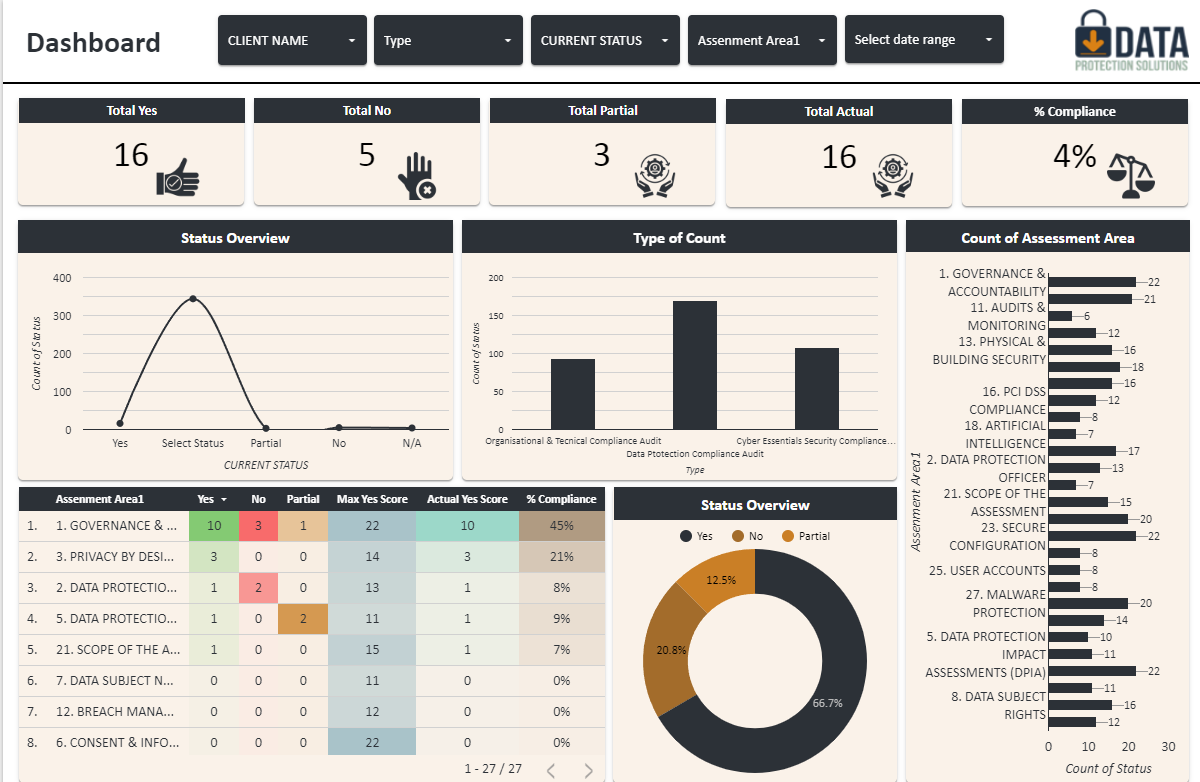

Layout of this report page (visuals, bound fields, positions):
{"tool":"powerbi","page":{"name":"Dashboard","canvas":[1280,720],"ordinal":0},"visuals":[{"type":"card","title":"% Compliant","fields":{"Values":["f_Measures.% COMPLIANT"]},"box":[1029.4,87,240,101.1],"z":0,"group":"g1"},{"type":"tableEx","title":"Assessment Detail","fields":{"Values":["Main_Data.Assessment Area","f_Measures.Total Yes","f_Measures.Total No","f_Measures.Total Partial","f_Measures.Count of Status","f_Measures.Total Actual Yes Score","f_Measures.% COMPLIANT"]},"box":[11.5,461.1,679.2,250],"z":0},{"type":"card","title":"Total Actual","fields":{"Values":["f_Measures.Total Actual Yes Score"]},"box":[774.9,87,240,101.1],"z":1000,"group":"g1"},{"type":"shape","box":[0,71.8,1276,15.1],"z":1000},{"type":"card","title":"Total Partial","fields":{"Values":["f_Measures.Total Partial"]},"box":[520.5,87,240,101.1],"z":2000,"group":"g1"},{"type":"textbox","box":[6.8,6.8,151.6,43.4],"z":2000},{"type":"card","title":"Total No","fields":{"Values":["f_Measures.Total No"]},"box":[266,87,240,101.1],"z":3000,"group":"g1"},{"type":"image","box":[1179.3,8,90.4,60.3],"z":3000},{"type":"card","title":"Total Yes","fields":{"Values":["f_Measures.Total Yes"]},"box":[11.5,87,240,101.1],"z":4000,"group":"g1"},{"type":"slicer","title":"Current Status","fields":{"Values":["Main_Data.Current Status"]},"box":[495.8,5.3,142.8,68],"z":4000},{"type":"image","box":[649.5,135.8,70,49.7],"z":5000,"group":"g1"},{"type":"group","id":"g1","title":"Group 1","box":[11.5,87,1257.9,101.1],"z":5000},{"type":"slicer","title":"Review Date","fields":{"Values":["Main_Data.Review Date"]},"box":[648.6,5.3,142.8,68.3],"z":6000},{"type":"image","box":[133,135.8,70,49.7],"z":6000,"group":"g1"},{"type":"slicer","title":"Signed Off Date","fields":{"Values":["Main_Data.Signed Off Date"]},"box":[801.3,5.3,142.8,68.3],"z":7000},{"type":"image","box":[1166,135.8,70,49.7],"z":7000,"group":"g1"},{"type":"slicer","title":"Type","fields":{"Values":["Main_Data.Type"]},"box":[343,5.3,142.8,68.3],"z":8000},{"type":"image","box":[391.2,135.8,70,49.7],"z":8000,"group":"g1"},{"type":"image","box":[907.7,135.8,70,49.7],"z":9000,"group":"g1"},{"type":"donutChart","title":"% Status","fields":{"Y":["f_Measures.Total Yes","f_Measures.Total No","f_Measures.Total Partial"]},"box":[701.7,461.1,280,250],"z":9000},{"type":"lineChart","title":"Status Overview","fields":{"Category":["Main_Data.Current Status"],"Y":["f_Measures.Count of Status"]},"box":[11.4,202.2,480,250],"z":10000},{"type":"clusteredColumnChart","title":"Count of Type","fields":{"Y":["f_Measures.Count of Status"],"Category":["Main_Data.Type"]},"box":[502,202.2,479.7,250],"z":11000},{"type":"clusteredBarChart","title":"Count of Assessment Area","fields":{"Category":["Main_Data.Assessment Area"],"Y":["f_Measures.Count of Status"]},"box":[992.2,202.2,277.5,509],"z":12000},{"type":"shape","box":[11.5,43.4,205.7,30.1],"z":13000},{"type":"slicer","title":"Assessment Area","fields":{"Values":["Main_Data.Assessment Area"]},"box":[954.1,5.3,142.8,68.3],"z":14000},{"type":"image","box":[127,7,45,45],"z":15000}]}

Visuals, with their boxes on the page's 1280x720 design canvas (x1, y1, x2, y2). These are canvas units, not pixel positions in the 1200x782 screenshot, which may show the page scaled, cropped or inside an application window:
"% Compliant" card: [1029,87,1269,188]
"Assessment Detail" tableEx: [12,461,691,711]
"Total Actual" card: [775,87,1015,188]
shape: [0,72,1276,87]
"Total Partial" card: [520,87,760,188]
textbox: [7,7,158,50]
"Total No" card: [266,87,506,188]
image: [1179,8,1270,68]
"Total Yes" card: [12,87,252,188]
"Current Status" slicer: [496,5,639,73]
image: [650,136,720,186]
"Group 1" group: [12,87,1269,188]
"Review Date" slicer: [649,5,791,74]
image: [133,136,203,186]
"Signed Off Date" slicer: [801,5,944,74]
image: [1166,136,1236,186]
"Type" slicer: [343,5,486,74]
image: [391,136,461,186]
image: [908,136,978,186]
"% Status" donutChart: [702,461,982,711]
"Status Overview" lineChart: [11,202,491,452]
"Count of Type" clusteredColumnChart: [502,202,982,452]
"Count of Assessment Area" clusteredBarChart: [992,202,1270,711]
shape: [12,43,217,74]
"Assessment Area" slicer: [954,5,1097,74]
image: [127,7,172,52]
